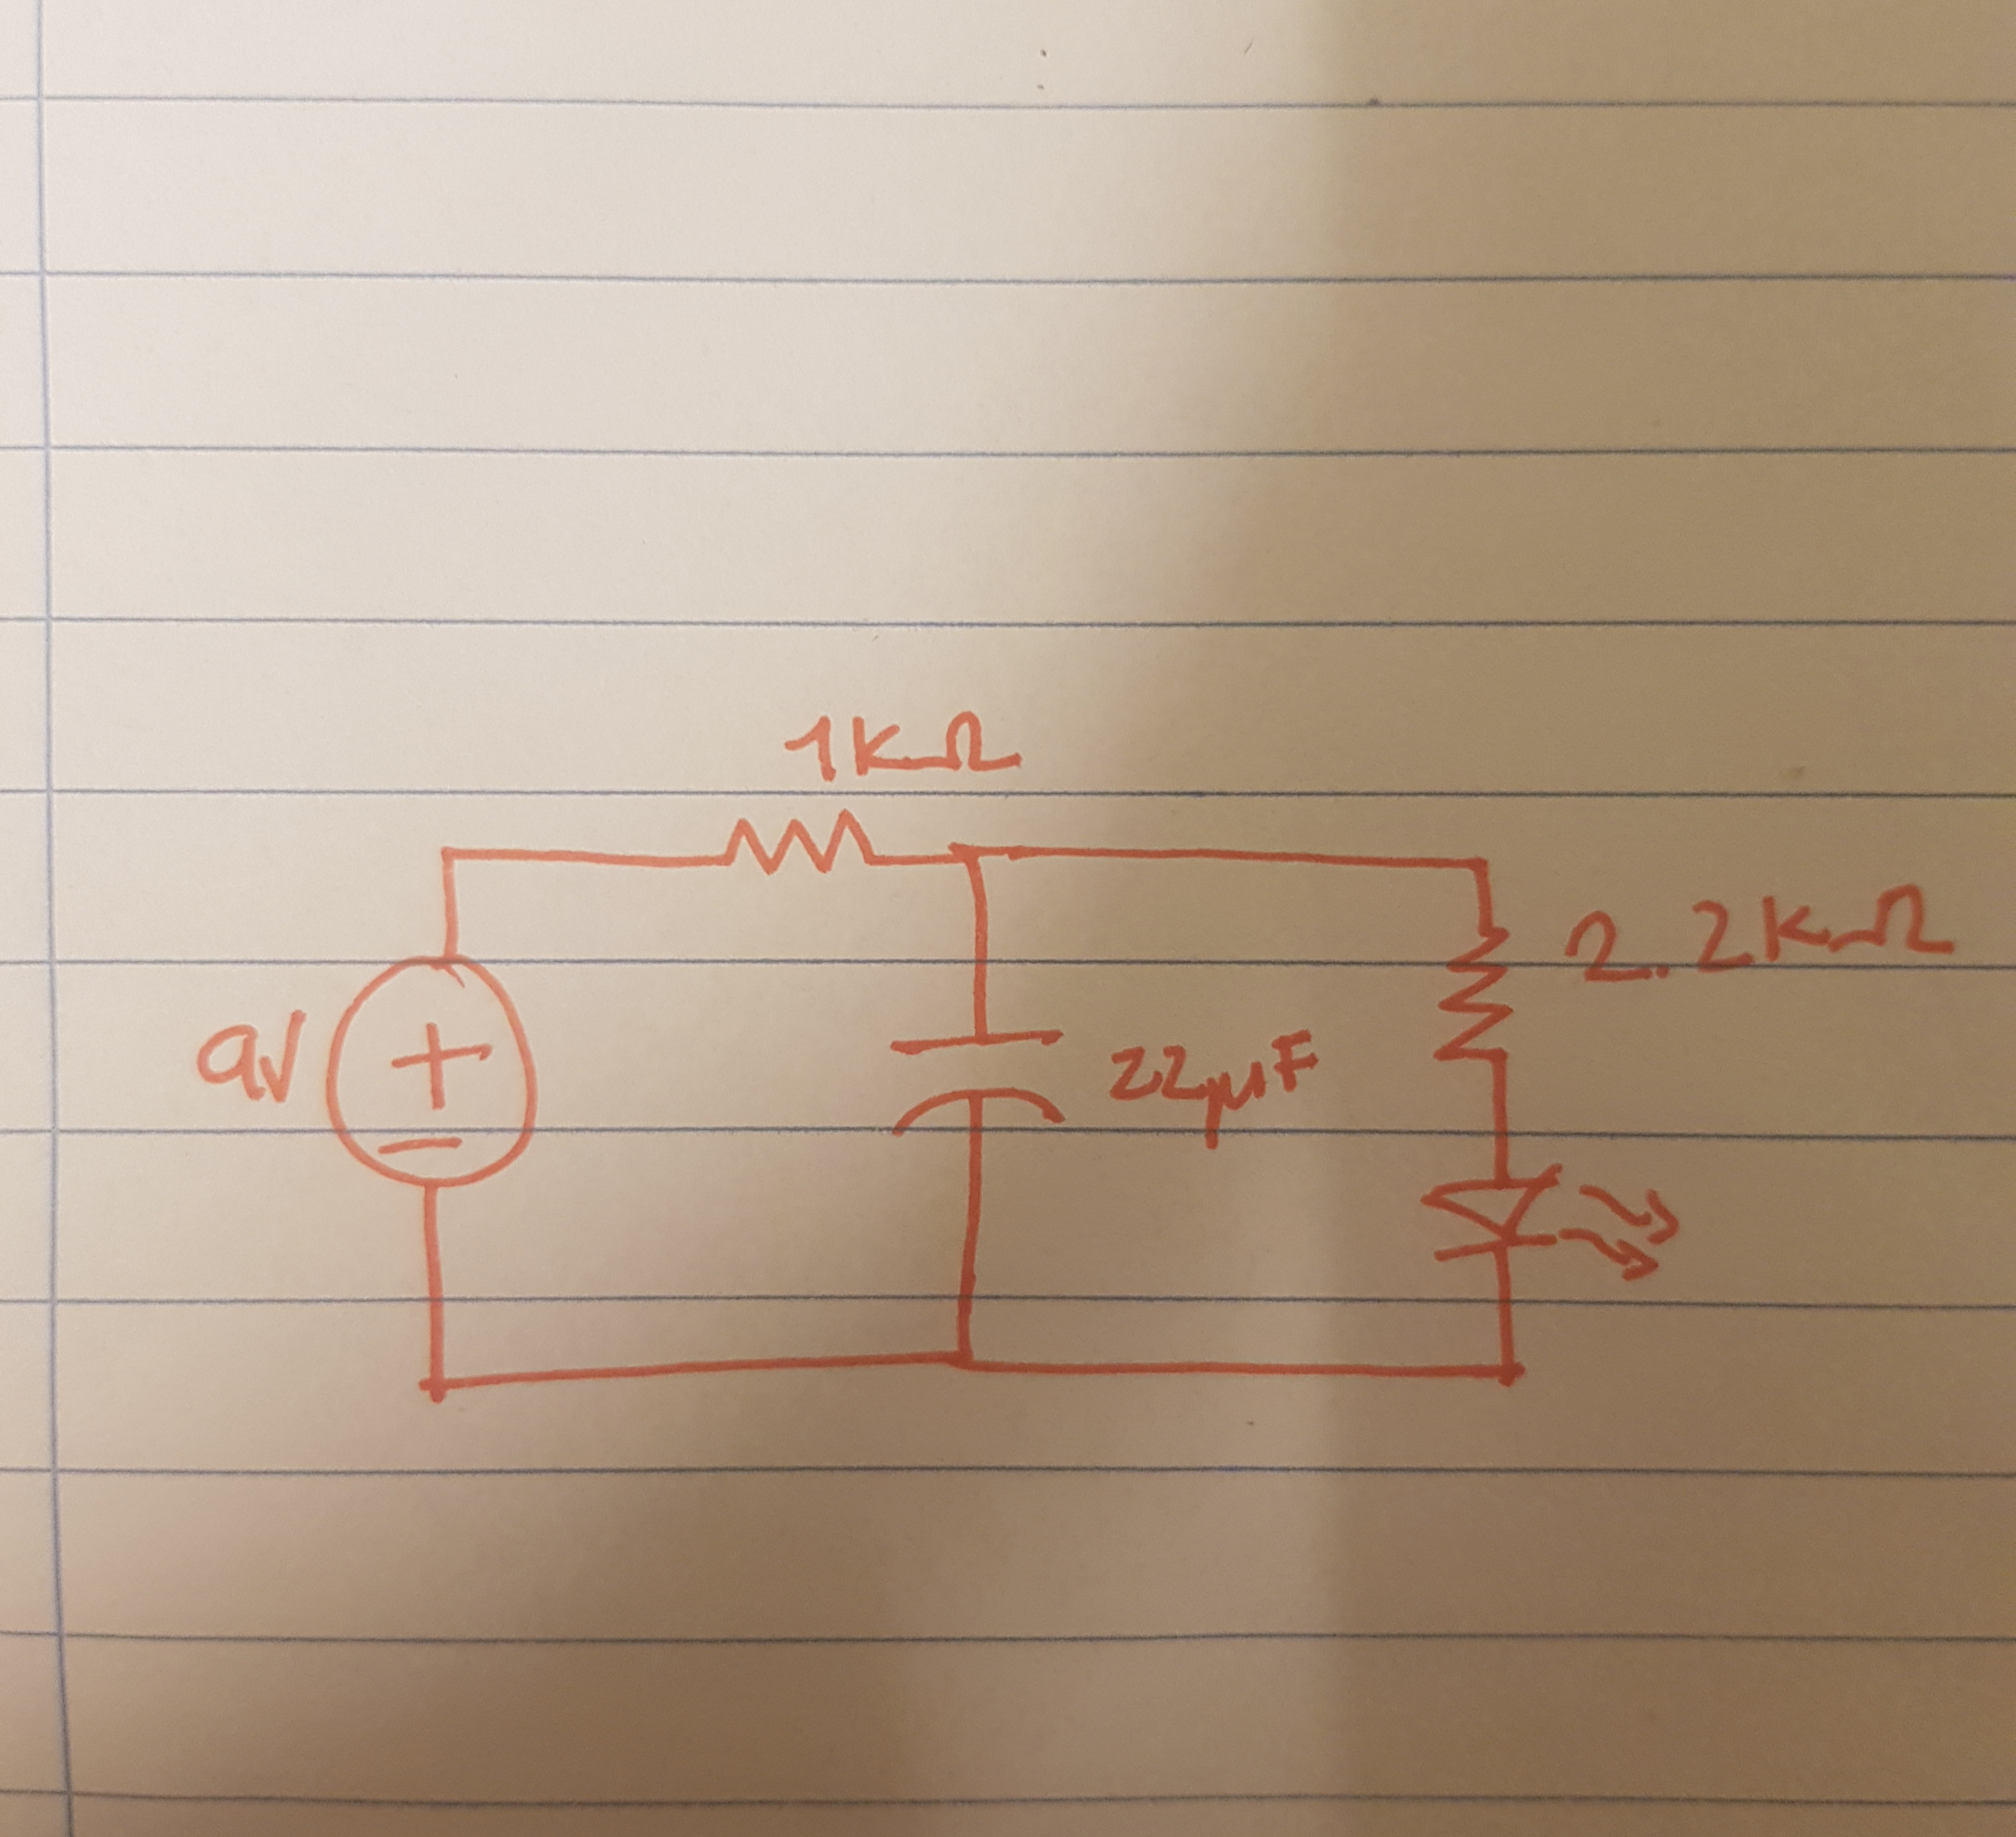capacitor.unpolarized: (875, 1006, 1084, 1145)
diode.light_emitting: (1408, 1161, 1688, 1280)
junction: (397, 1351, 474, 1423), (416, 822, 488, 883), (932, 1322, 994, 1389), (941, 834, 1012, 892), (1477, 1344, 1542, 1400), (1459, 838, 1517, 883)
resistor: (1422, 936, 1535, 1070), (722, 803, 878, 897)
text: (1545, 873, 1965, 987), (1089, 1026, 1326, 1152), (778, 699, 1029, 787), (184, 1010, 313, 1115)
voltage.dc: (314, 945, 562, 1210)
